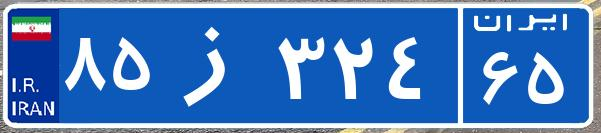2: (330, 28, 385, 110)
3: (273, 28, 330, 110)
4: (385, 28, 445, 110)
5: (110, 28, 158, 105), (525, 38, 570, 115)
6: (475, 38, 525, 113)
8: (57, 26, 110, 107)
ز: (158, 15, 273, 115)
